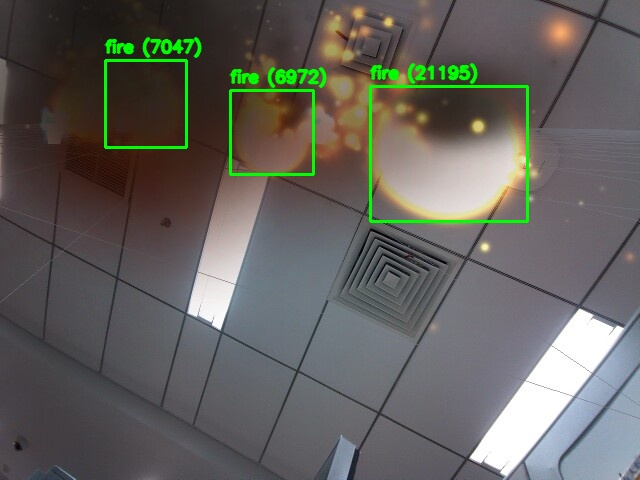fire: (370, 86, 527, 221), (105, 60, 186, 147), (230, 90, 313, 174)
